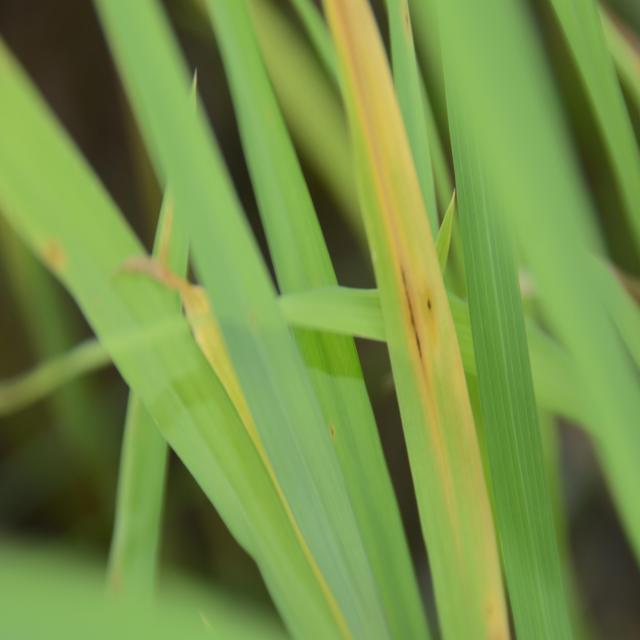Rice Tungro: (323, 23, 494, 640)
